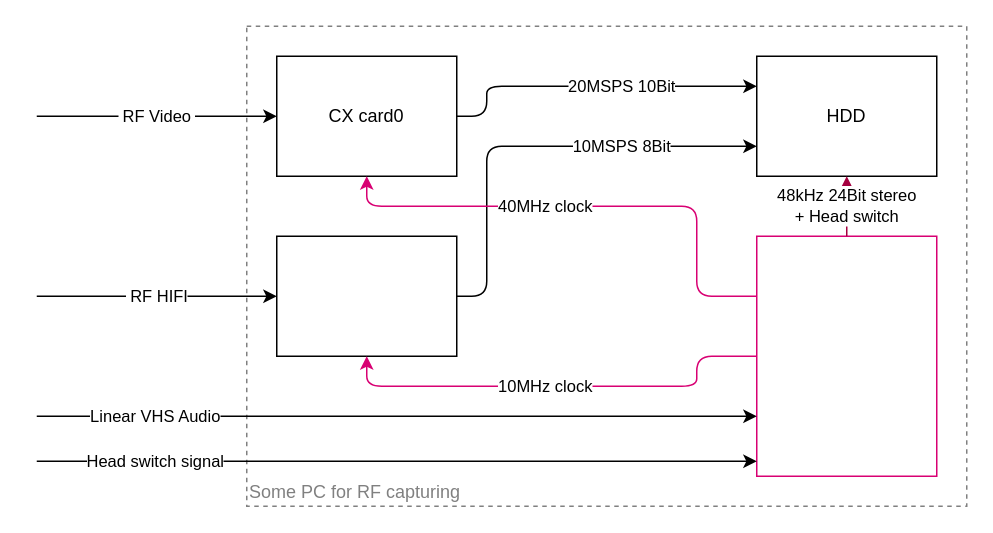
Some shapes in this 993 by 533 pixel diagram are drawn without their labels. The centre of each missing label's shape, as x and y in pixels:
ClockGen + Audio ADC: pixel 846 355
CX card1: pixel 366 295
